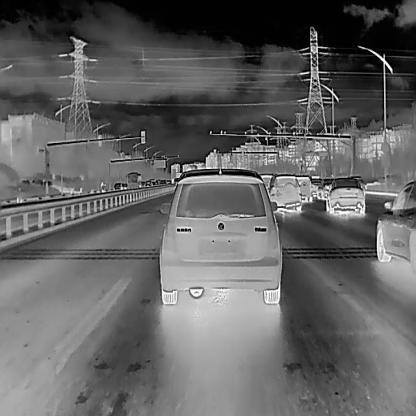car: (158, 167, 281, 305), (375, 179, 416, 265), (324, 177, 366, 214), (265, 172, 301, 210), (293, 173, 312, 199), (316, 176, 334, 199), (308, 173, 321, 196), (124, 171, 141, 188), (41, 178, 53, 188), (31, 177, 44, 185), (112, 181, 122, 190), (144, 179, 152, 186), (160, 179, 169, 185), (149, 178, 156, 184), (140, 180, 145, 187), (155, 178, 160, 184), (121, 183, 125, 189), (166, 178, 170, 183)
